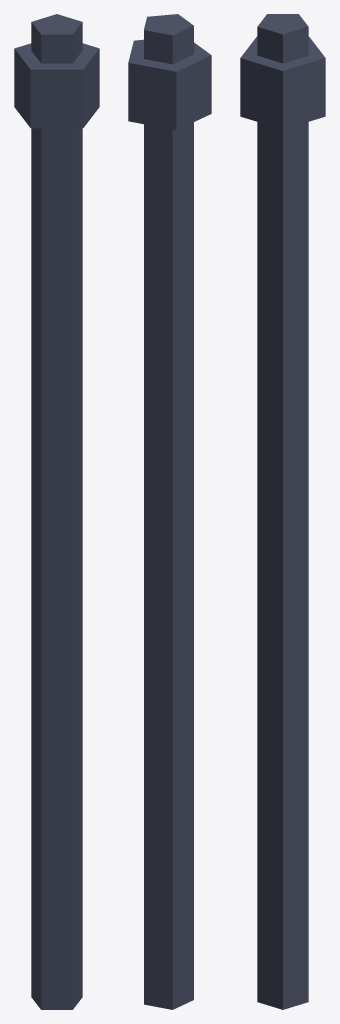
The model's file is Petit_Poteau.FBX.
3 renders of one model, left to right at view 1: azimuth 90°, elevation 25°; view 2: azimuth 210°, elevation 25°; view 3: azimuth 270°, elevation 25°, orthographic.
Visible parts, largest first — view 1: Cylinder007; view 2: Cylinder007; view 3: Cylinder007.
Part boxes in pixels (x1,y1,x2,y2): Cylinder007: [14, 14, 99, 1009]; Cylinder007: [128, 14, 211, 1009]; Cylinder007: [240, 14, 325, 1009].
Bounding box in the file's own units: 45.23 × 600 × 47.55.
